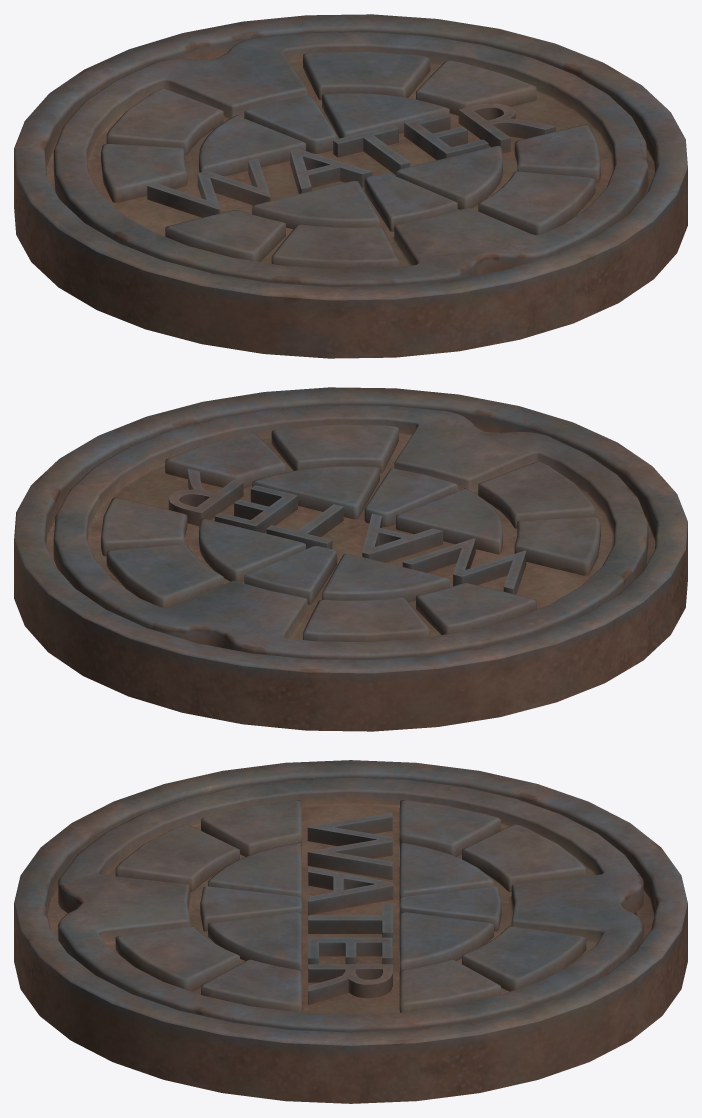
The model's file is water_manhole_cover_1k.gltf.
3 renders of one model, top to bottom at view 1: azimuth 30°, elevation 25°; view 2: azimuth 150°, elevation 25°; view 3: azimuth 270°, elevation 25°, orthographic.
Visible parts, largest first — view 1: water_manhole_cover_frame; view 2: water_manhole_cover_frame; view 3: water_manhole_cover_frame.
Boxes of the visible parts, x1,y1,x2,y2 form: water_manhole_cover_frame: (14,14,687,358); water_manhole_cover_frame: (14,387,687,731); water_manhole_cover_frame: (14,760,687,1103).
Bounding box in the file's own units: 0.6908 × 0.0676 × 0.6908.
Materials: 1 (1 with a texture image).
